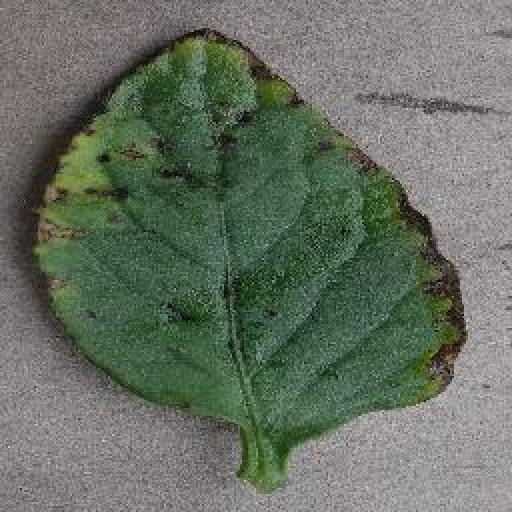Bacterial Spot: (29, 25, 476, 443)
